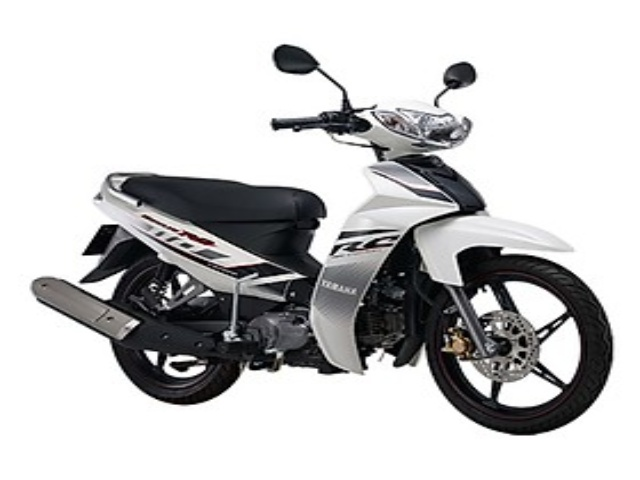Xe_may: (25, 39, 616, 437)
